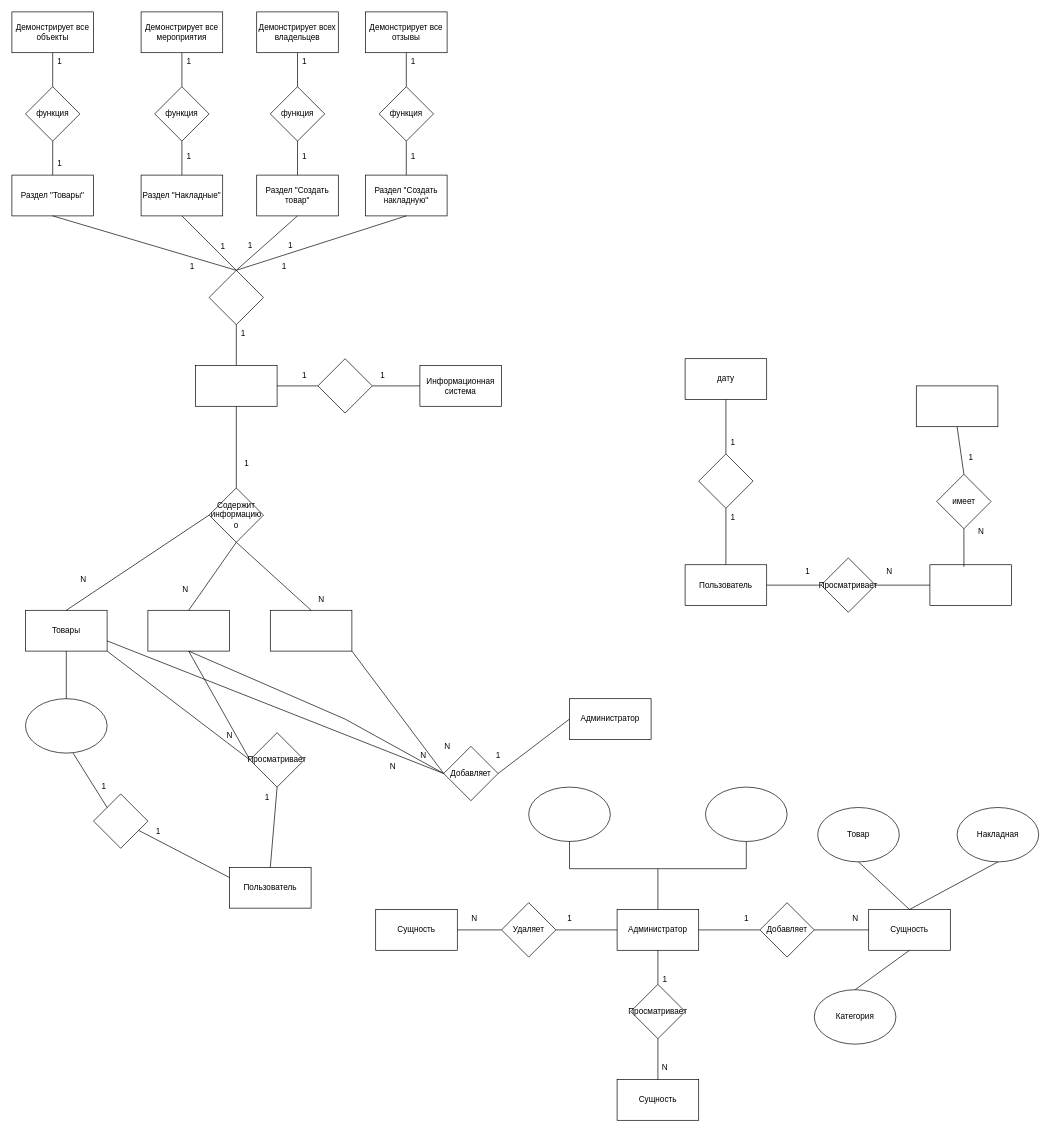
This 1051x1132 diagram has some shape labels left out. Each missing label, with the centre of its shape:
email: (569,814)
Вводит: (725,480)
Наибольшая стоимость: (957,406)
Накладную: (970,585)
Накладные: (188,630)
Пароль: (746,814)
Получатель товара: (311,630)
Система "Учет спроса и предложения": (236,385)
следить за изменением: (120,820)
Содержит: (236,297)
стоимость: (66,725)
Это: (344,385)
